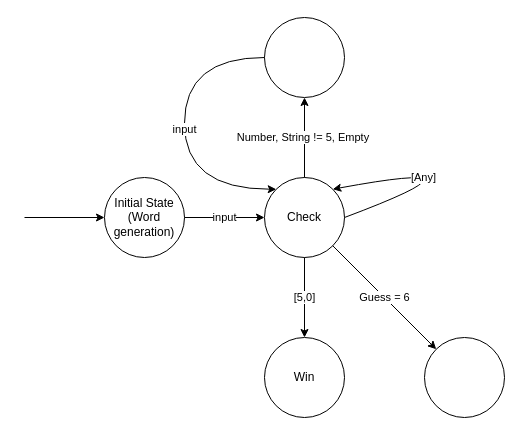
Some shapes in this 522 by 435 pixel diagram are drawn without their labels. The shapes that lost their labels are listed below. From the top down, each one's box as (x1, y1, x2, y2) in pixels, then its label:
(264, 16, 344, 98): notValidInput
(424, 336, 504, 418): lose
